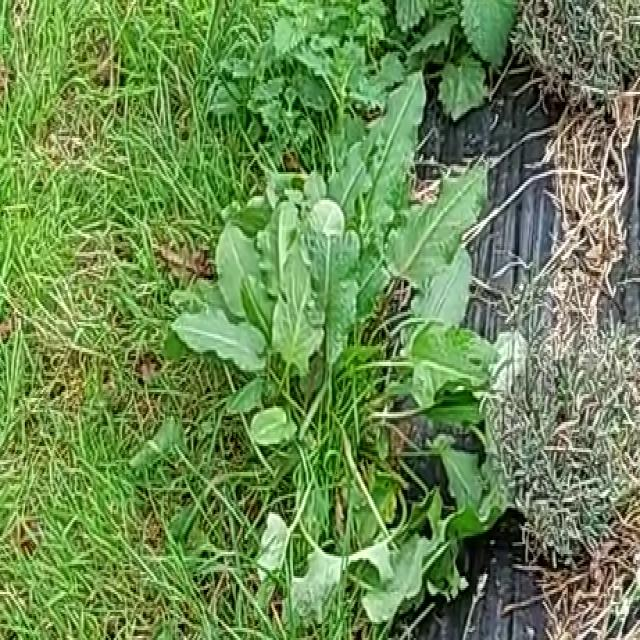organic waste: (158, 62, 532, 574)
